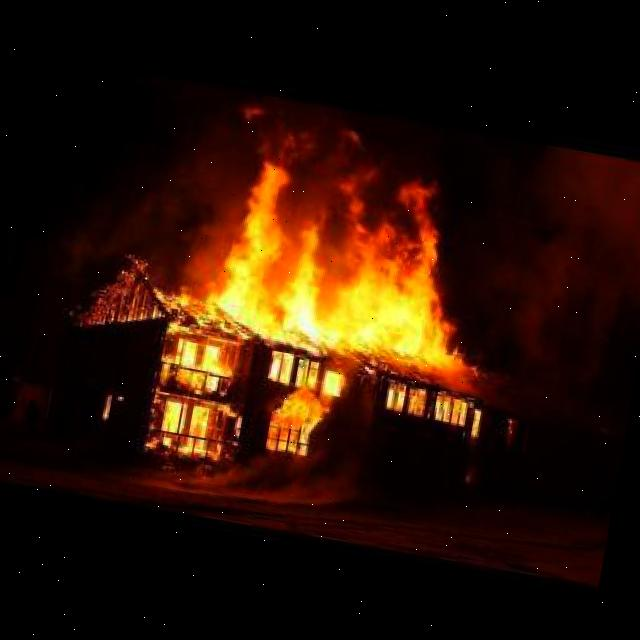fire: (170, 132, 490, 372), (148, 332, 345, 476), (384, 377, 486, 435)
